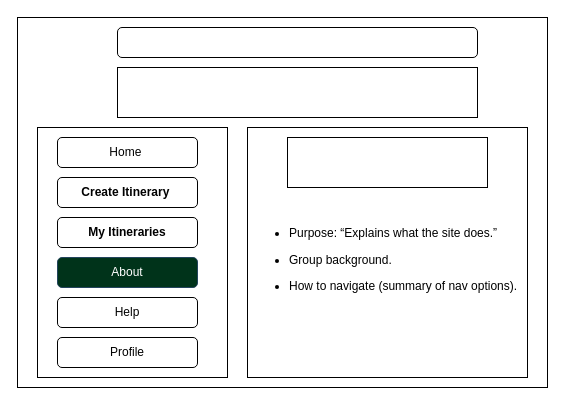
The diagram is 565 pixels wide and 405 high, and some of its shapes have lost their labels. The box of each missing label's shape, as (x1, y1, x2, y2) in pixels:
About section: (286, 136, 488, 188)
Altas Itenerary Planner (Log/Title): (116, 66, 478, 118)
Home Page: (116, 26, 478, 58)
